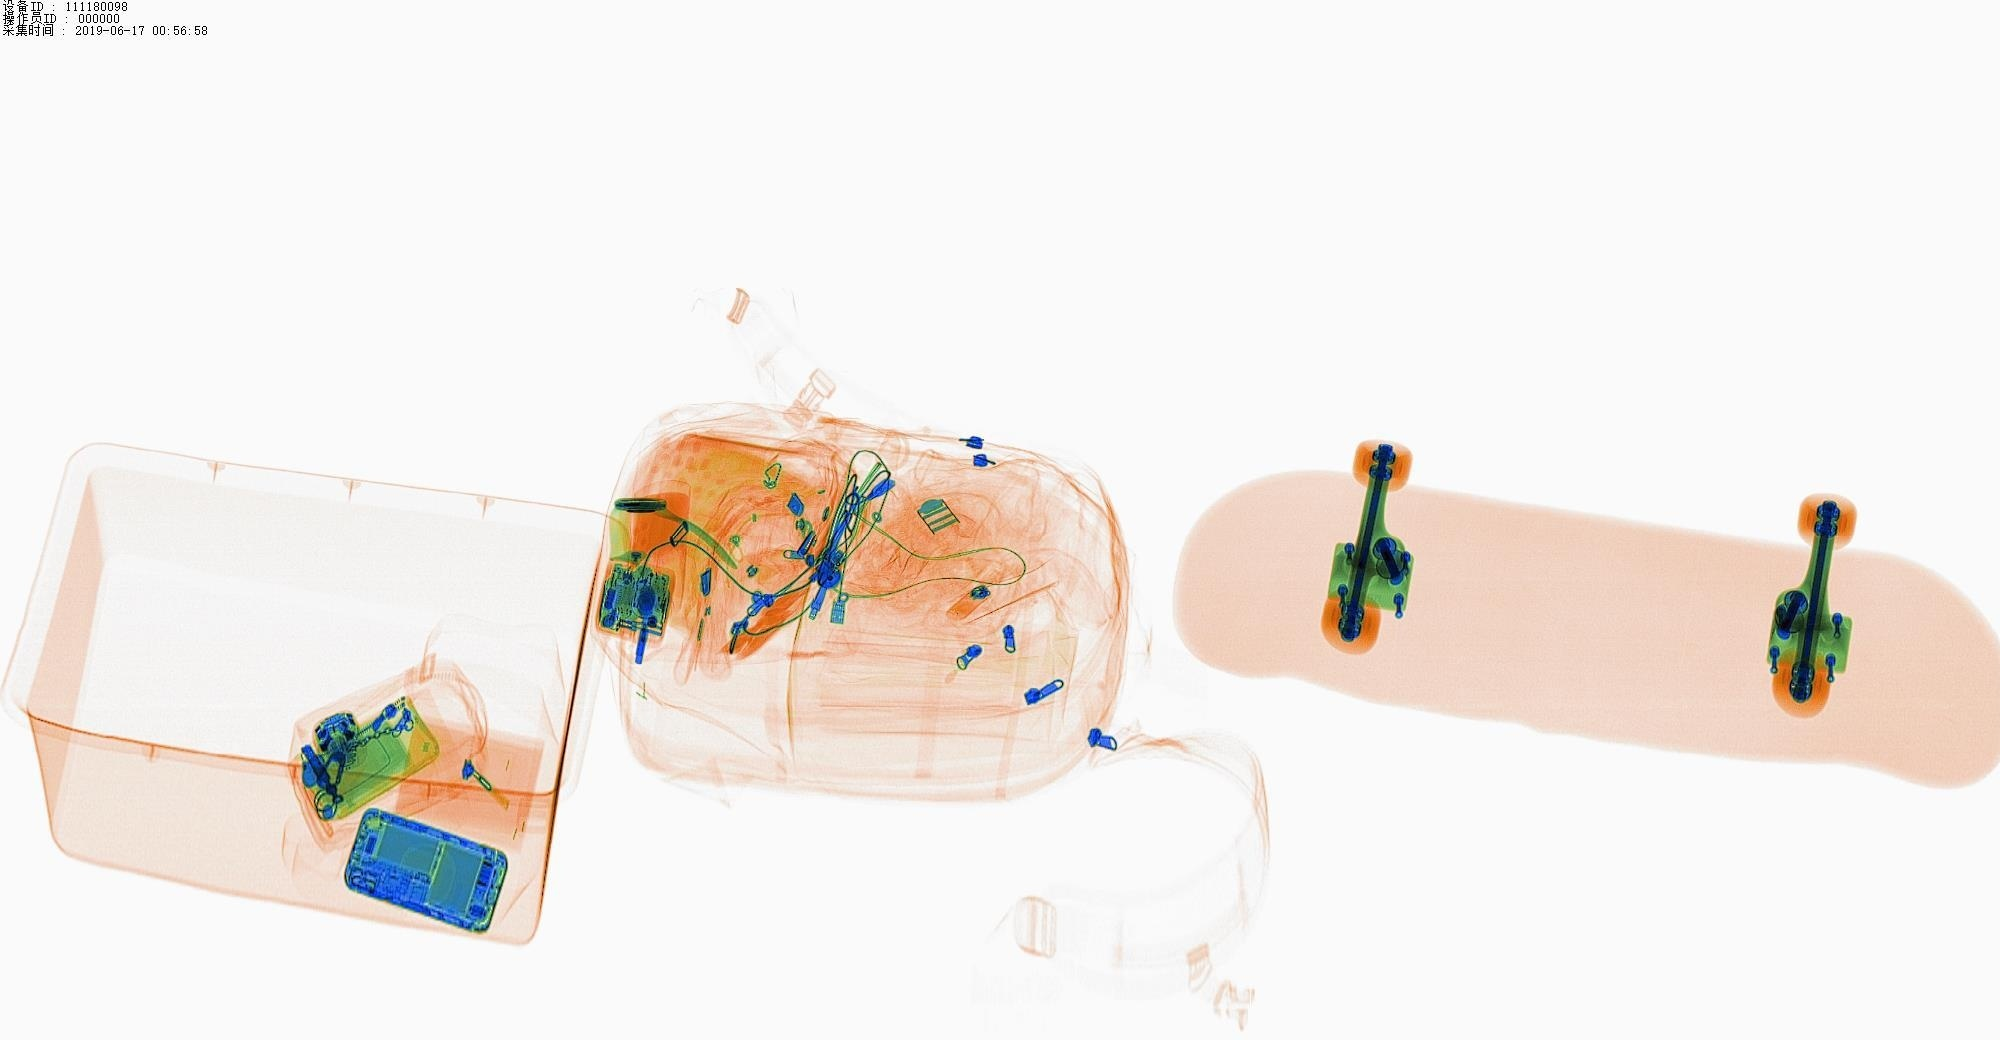NonmetallicFire: (942, 577, 1011, 644)
